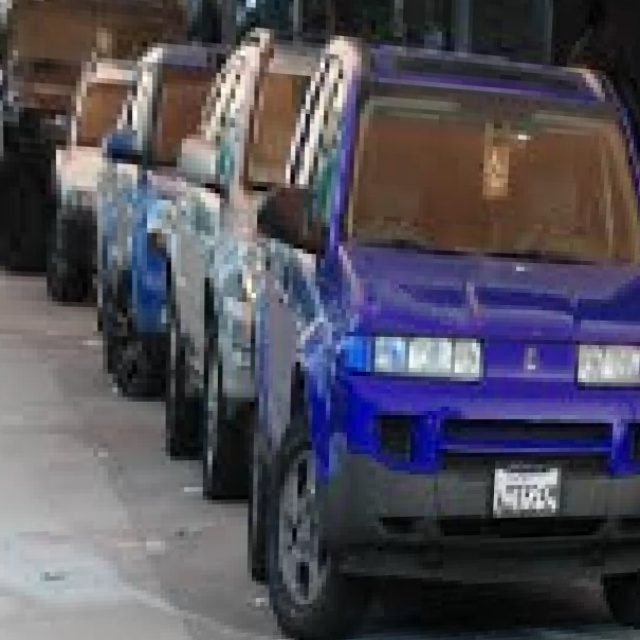ISA: (484, 148, 506, 191)
